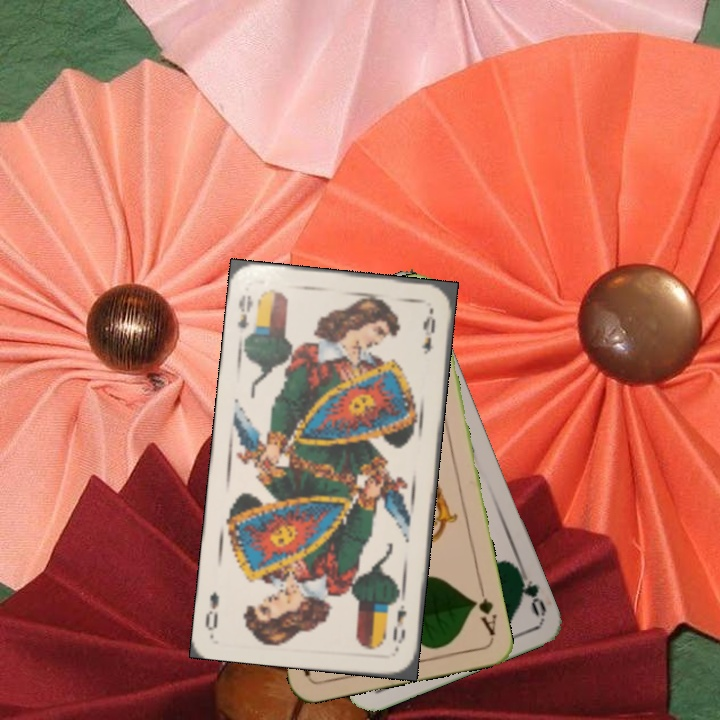EO: (388, 600, 409, 647), (233, 290, 255, 331)
GA: (468, 581, 500, 639)
GO: (513, 562, 549, 620)
